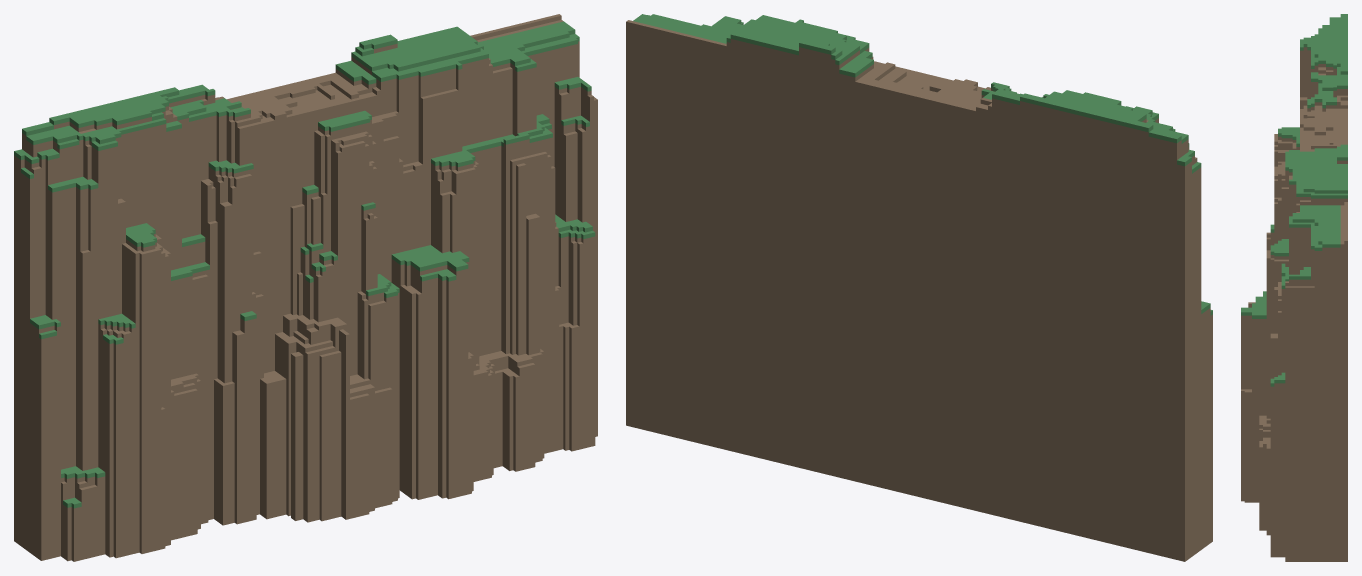
The model's file is Cubeland-29.obj.
3 views of the same model, side by side, from view 1: azimuth 30°, elevation 25°; view 2: azimuth 150°, elevation 25°; view 3: azimuth 270°, elevation 25° (orthographic). The views are drawn at different scales.
Size of the model in its own units: 13.9 by 10.1 by 2.9.
Materials: 1 (1 with a texture image).
